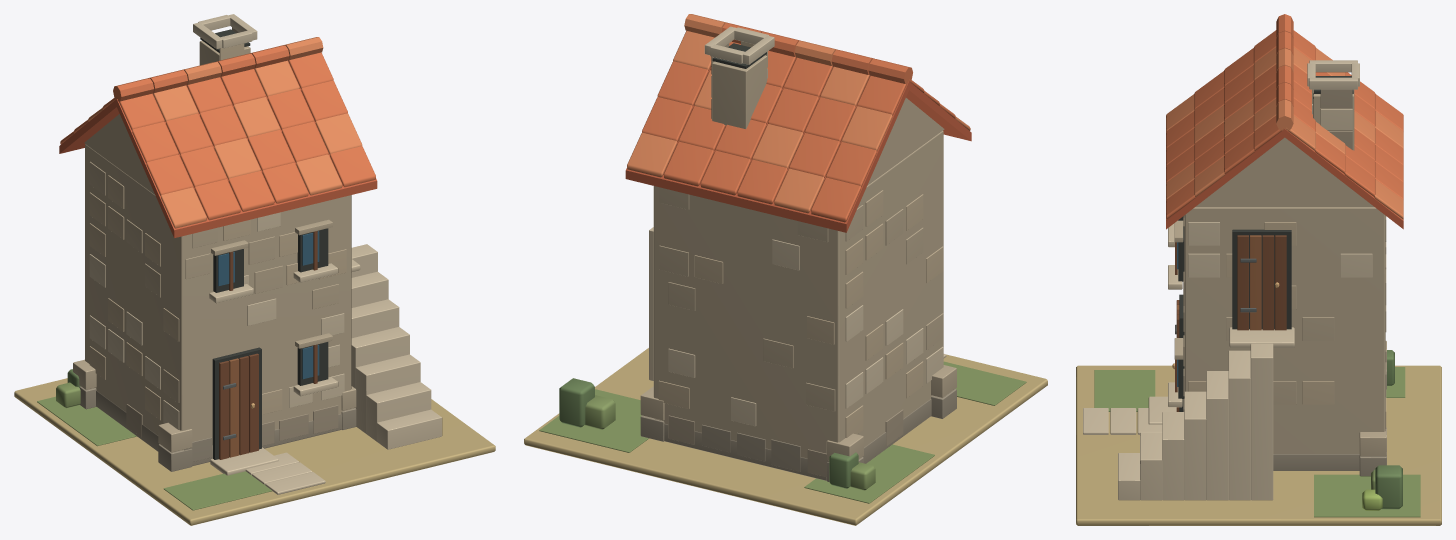
The model's file is house_stairs.glb.
The picture shows the model from 3 angles, left to right: view 1: azimuth 30°, elevation 25°; view 2: azimuth 150°, elevation 25°; view 3: azimuth 270°, elevation 25°; orthographic projection. The views are drawn at different scales.
Visible parts, largest first — view 1: house_stairs; view 2: house_stairs; view 3: house_stairs.
Part boxes in pixels (box(x1,y1,x2,y2)): house_stairs: box(14, 14, 495, 525); house_stairs: box(524, 14, 1047, 525); house_stairs: box(1076, 14, 1441, 525).
Bounding box in the file's own units: 2.4 × 2.77 × 2.4.
